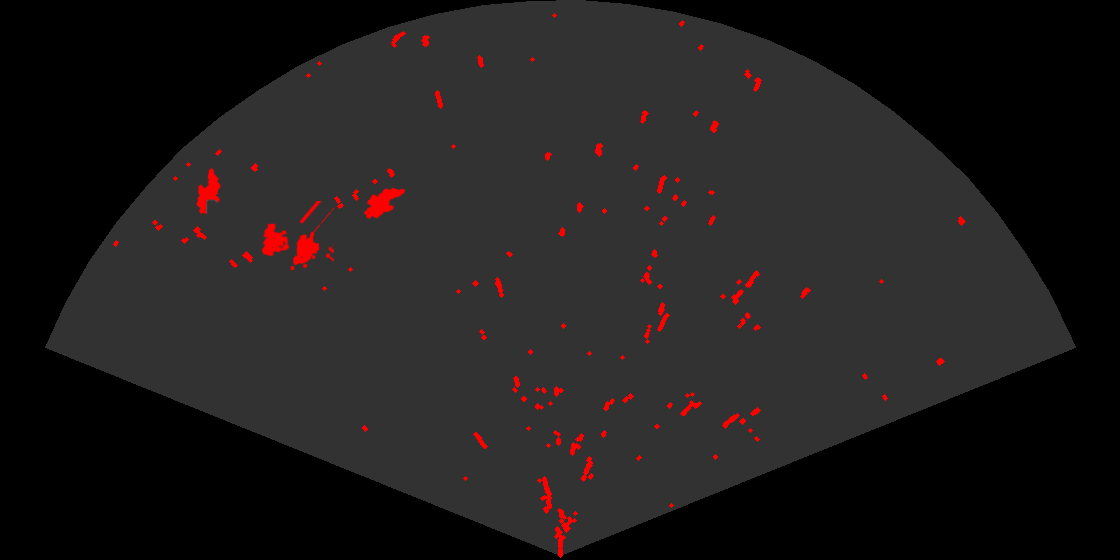AUV: (362, 186, 407, 220), (195, 166, 222, 216)
cage: (260, 201, 334, 272)
